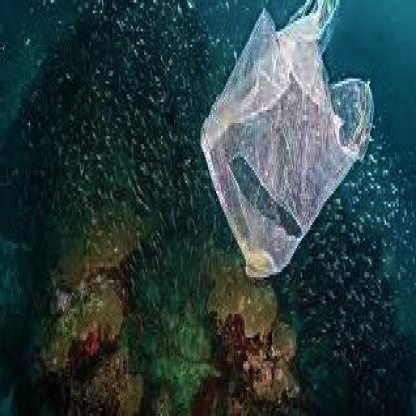pbag: (199, 2, 374, 283)
